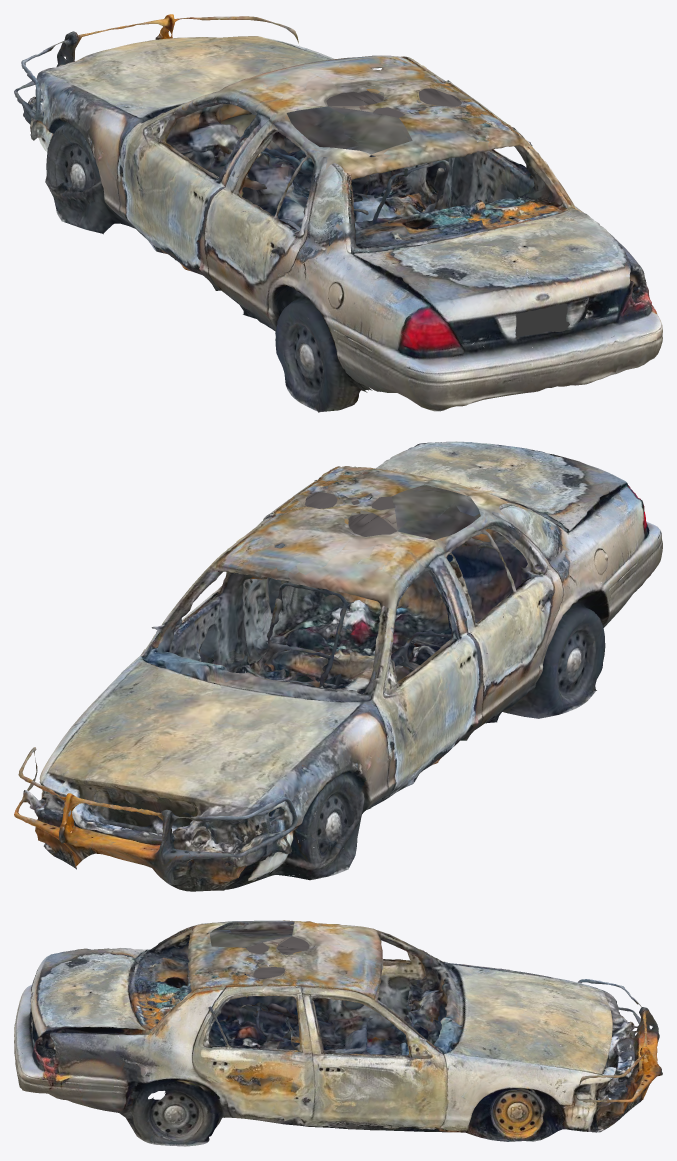
File: burnt_car.glb
3 renders of one model, top to bottom at view 1: azimuth 30°, elevation 25°; view 2: azimuth 150°, elevation 25°; view 3: azimuth 270°, elevation 25°, orthographic. The views are drawn at different scales.
Parts seen in each view (by area): view 1: Mesh_0.001_Material_0.001_0 (×2), Mesh_0.001_Material.004_0; view 2: Mesh_0.001_Material_0.001_0 (×2); view 3: Mesh_0.001_Material_0.001_0 (×2).
Part boxes in pixels (x1,y1,x2,y2): Mesh_0.001_Material_0.001_0 (×2): (14, 14, 662, 412); Mesh_0.001_Material.004_0: (515, 303, 582, 339); Mesh_0.001_Material_0.001_0 (×2): (14, 441, 662, 891); Mesh_0.001_Material_0.001_0 (×2): (14, 920, 662, 1146).
Bounding box in the file's own units: 1.44 × 1.02 × 3.94.
2 materials, 1 textured.
